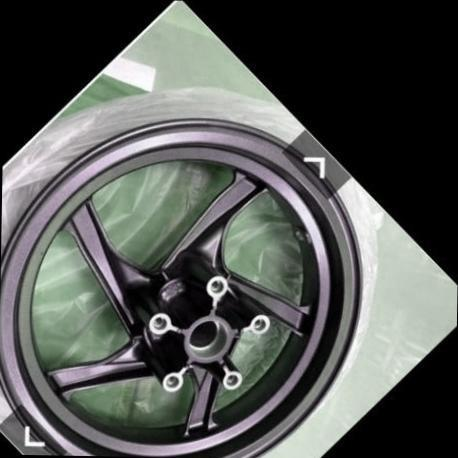hole: (196, 268, 230, 301), (242, 307, 273, 338), (154, 364, 185, 394), (144, 308, 172, 336), (216, 365, 242, 392)
